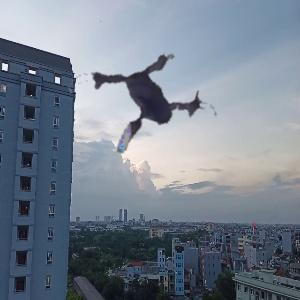drone: (47, 30, 222, 205)
